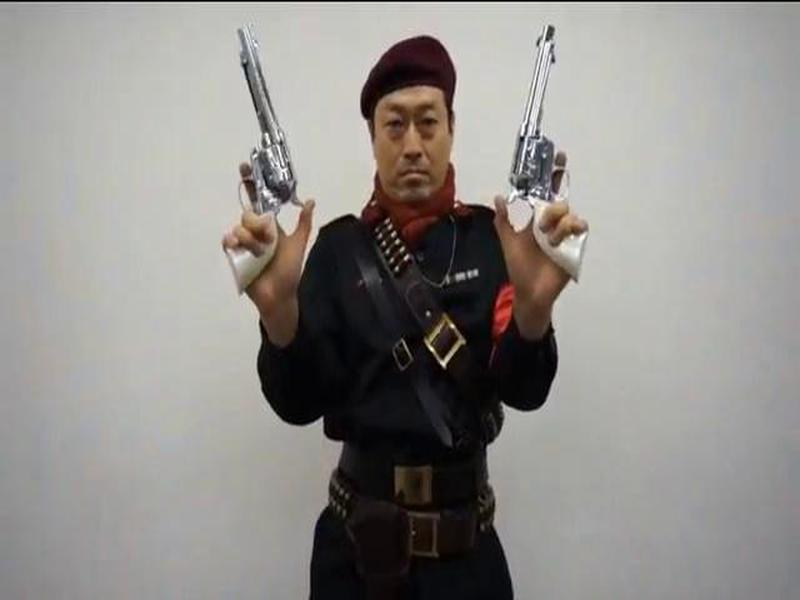Revolver: (197, 6, 315, 296), (500, 17, 602, 294)
